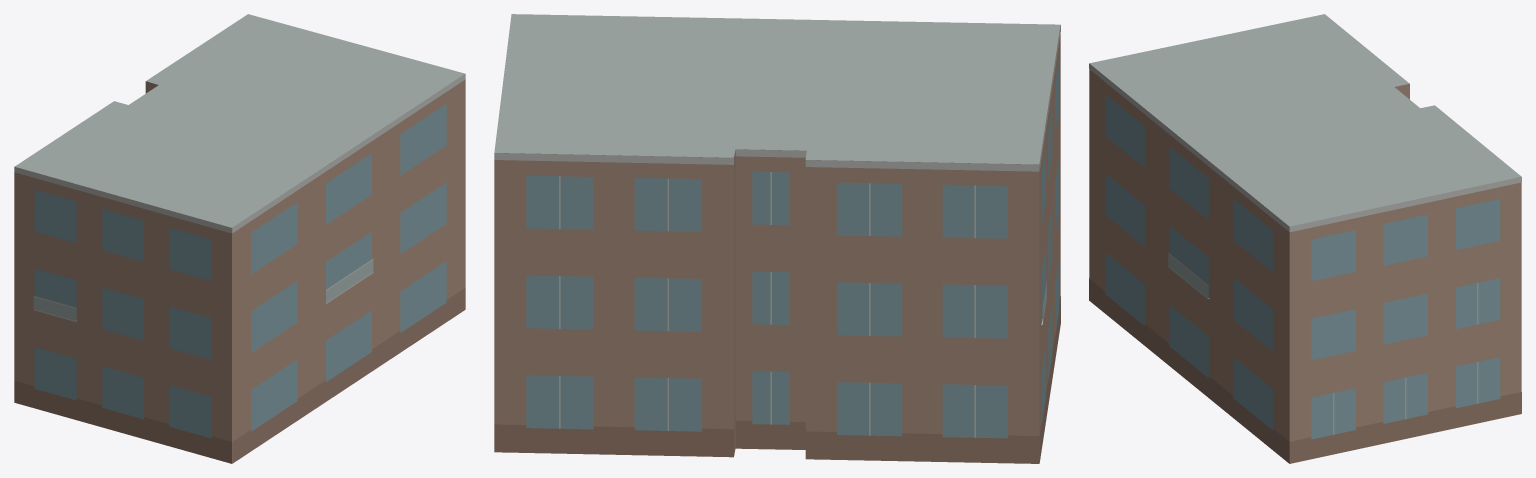
The model's file is survey-upis-32736468.glb.
The picture shows the model from 3 angles, left to right: view 1: azimuth 30°, elevation 25°; view 2: azimuth 150°, elevation 25°; view 3: azimuth 270°, elevation 25°; orthographic projection. The views are drawn at different scales.
Parts seen in each view (by area): view 1: survey-upis-32736468.tmp; view 2: survey-upis-32736468.tmp; view 3: survey-upis-32736468.tmp.
Part boxes in pixels (box(x1,y1,x2,y2)): survey-upis-32736468.tmp: box(14, 14, 465, 463); survey-upis-32736468.tmp: box(494, 14, 1060, 463); survey-upis-32736468.tmp: box(1089, 14, 1521, 463).
Bounding box in the file's own units: 19.62 × 10.2 × 16.87.
